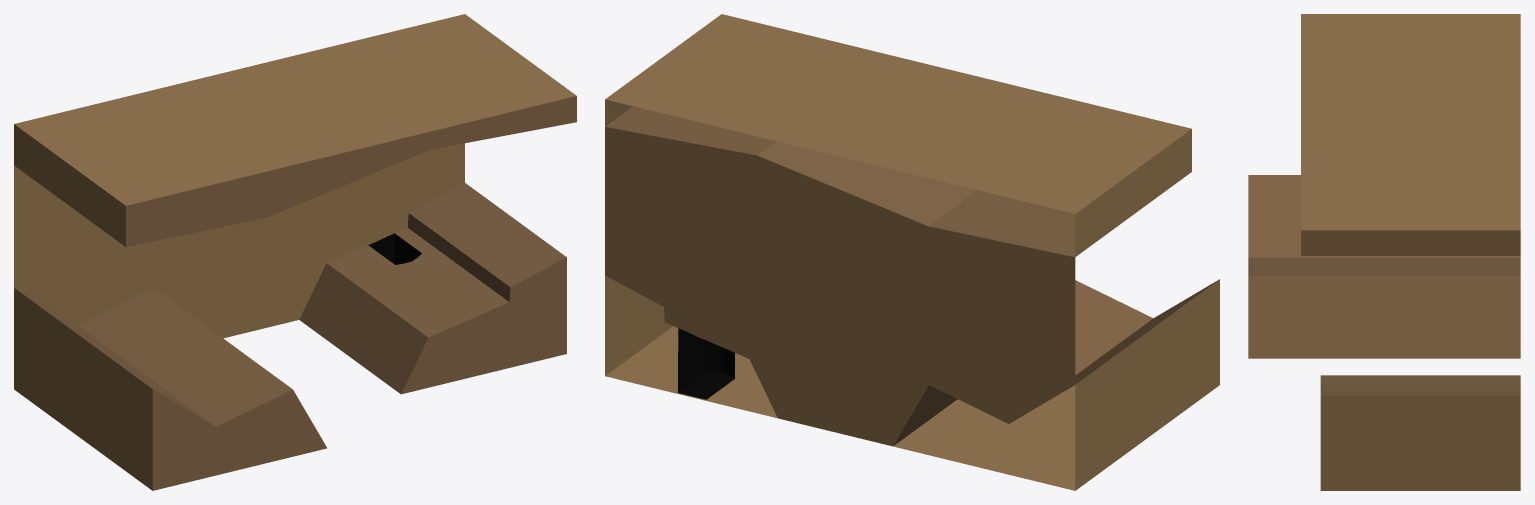
File: col1.glb
3 renders of one model, left to right at view 1: azimuth 30°, elevation 25°; view 2: azimuth 150°, elevation 25°; view 3: azimuth 270°, elevation 25°, orthographic. The views are drawn at different scales.
Visible parts, largest first — view 1: Plane; view 2: Plane; view 3: Plane.
Part boxes in pixels (left/top/right/bottom): Plane: left=14, top=14, right=576, bottom=490; Plane: left=605, top=14, right=1219, bottom=490; Plane: left=1248, top=14, right=1520, bottom=490.
Size of the model in its own units: 32 by 18 by 17.04.
